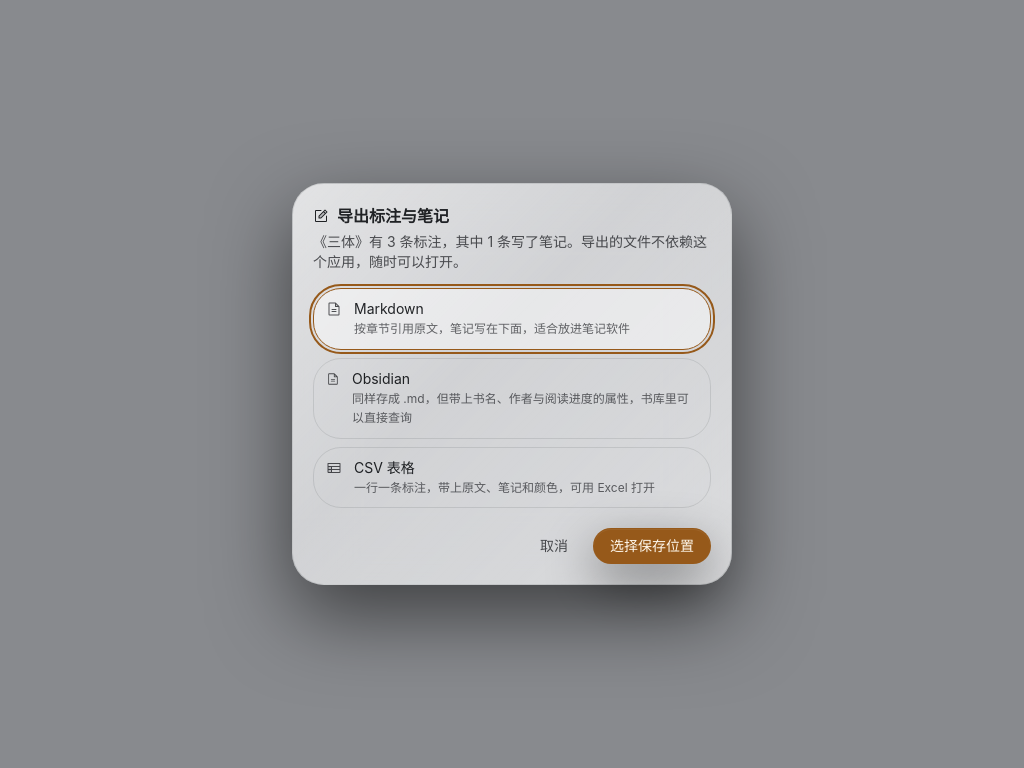
Test: ExportNotesDialog › says why the save panel could not open instead of going quiet
Click the button "选择保存位置".
click(652, 546)  # box top-left (593, 528), bottom-right (711, 564)
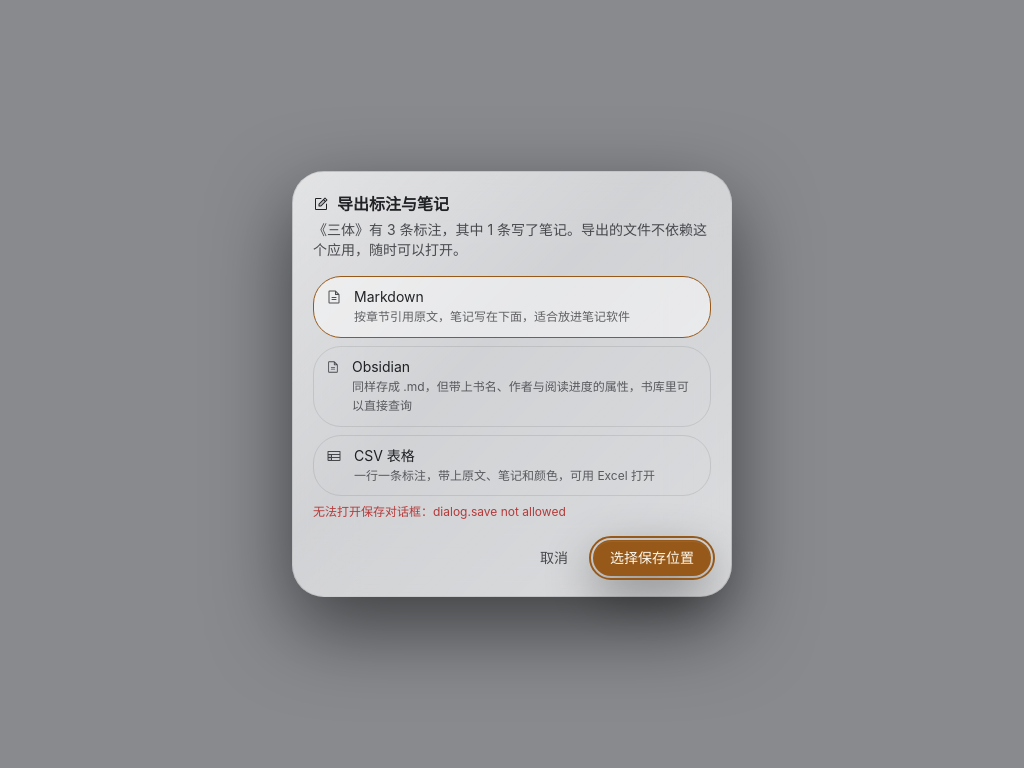
Expected: the text "无法打开保存对话框：dialog.save not allowed" is shown, top-left (313, 504), bottom-right (566, 519)
